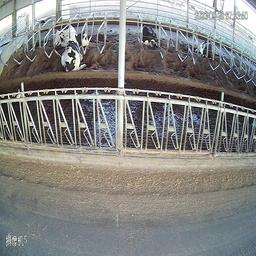cow: (61, 28, 90, 73), (139, 19, 159, 51), (51, 25, 77, 48), (196, 35, 214, 61)
